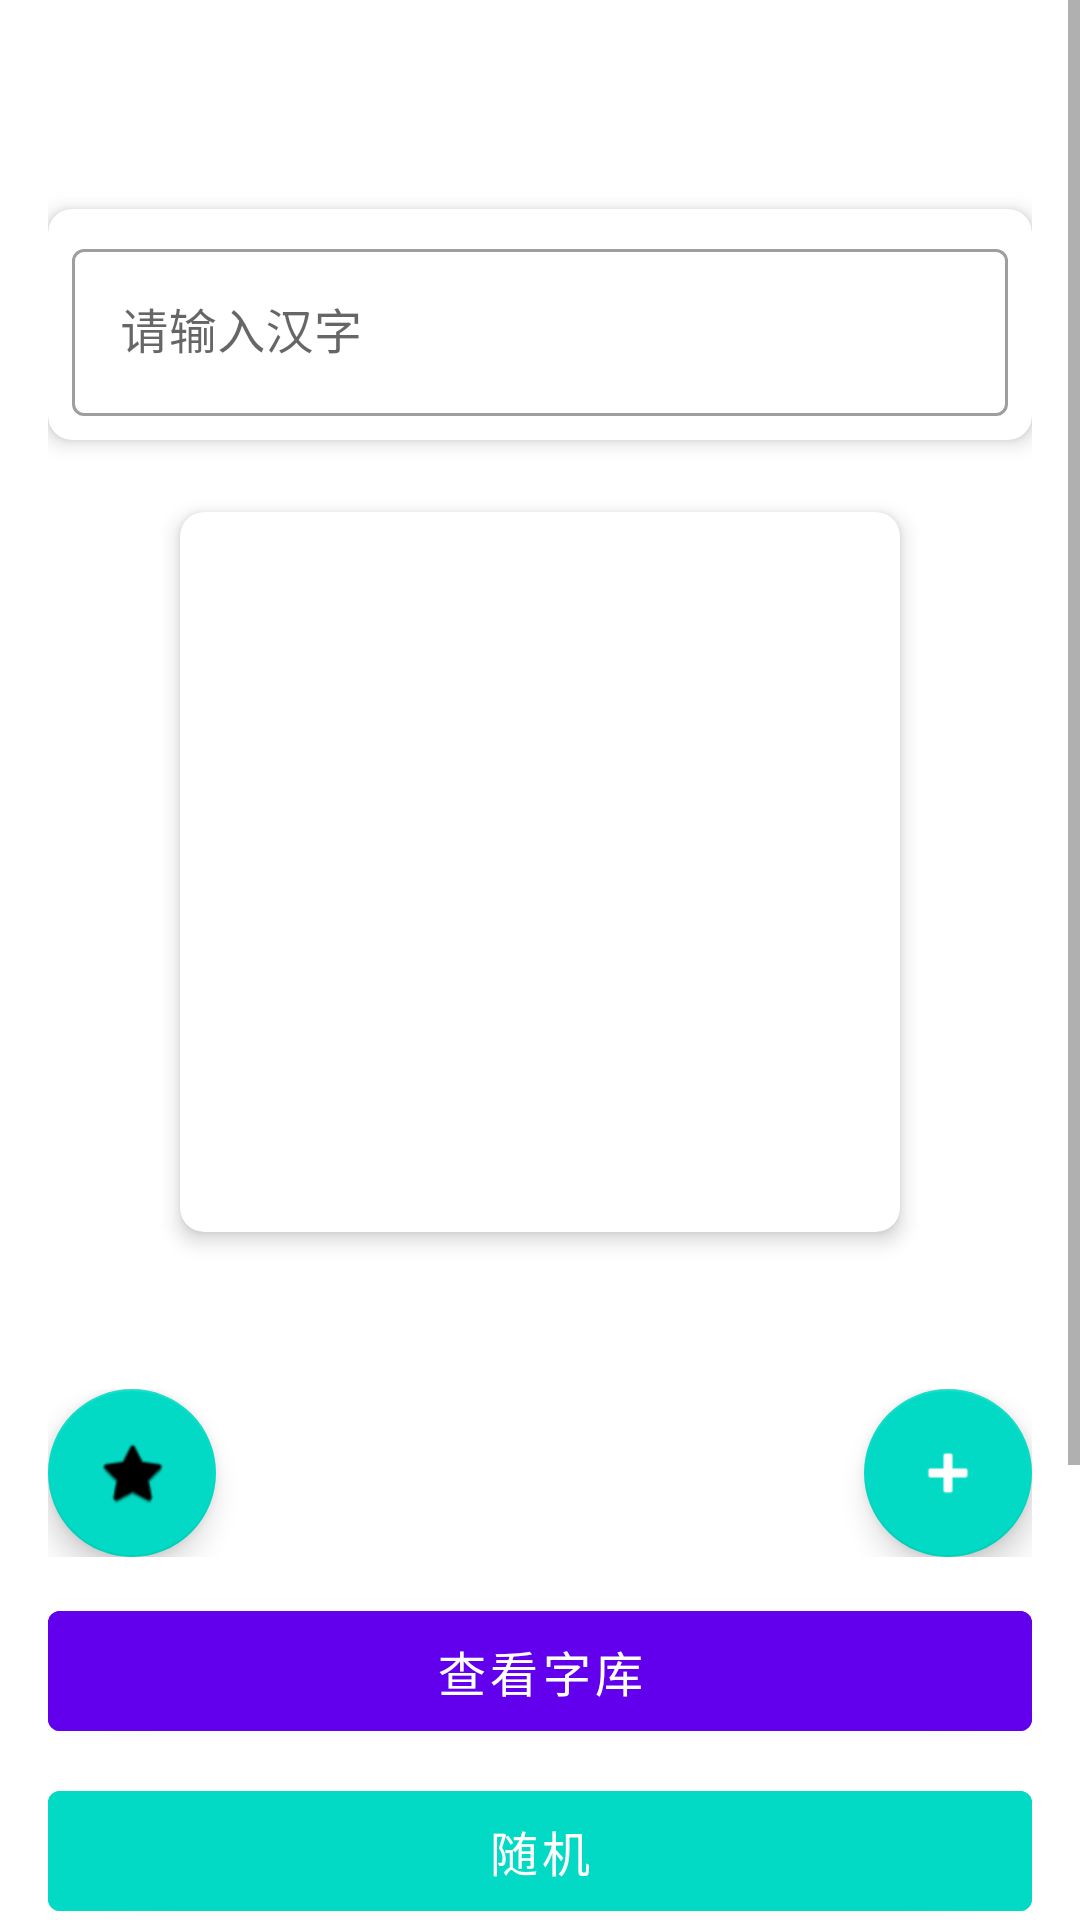

Icons on this 1080*1920 Android screen, each with the point to tap as [x,y]:
标记/取消标记: [132,1473]
添加汉字: [948,1473]
